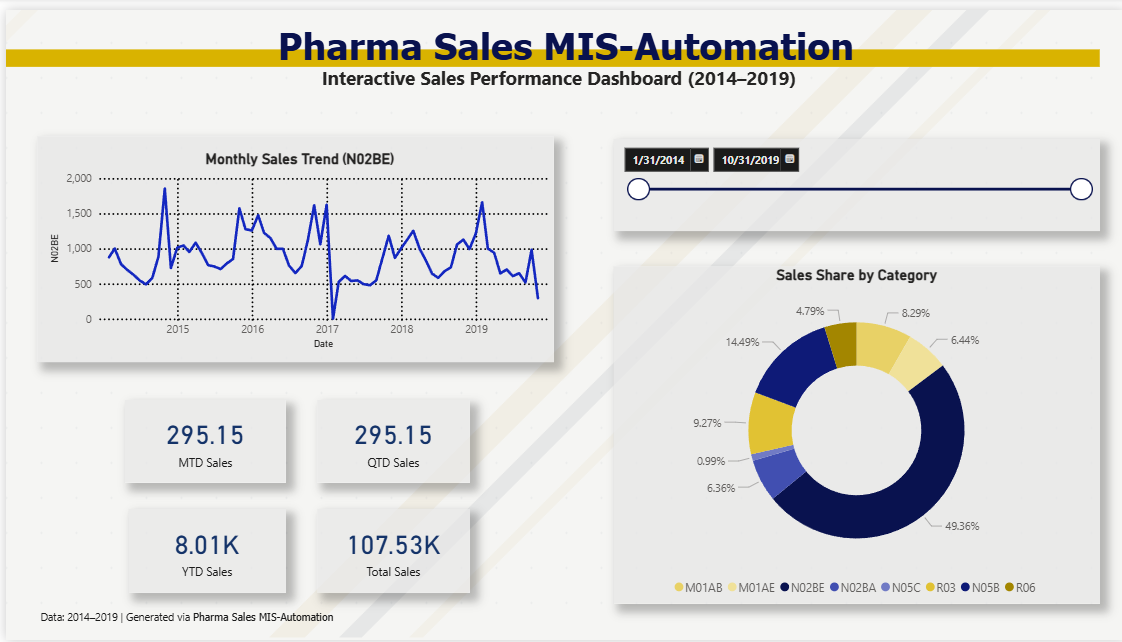

Layout of this report page (visuals, bound fields, positions):
{"tool":"powerbi","page":{"name":"Page 1","canvas":[1280,720],"ordinal":0},"visuals":[{"type":"lineChart","fields":{"Category":["DateTable.Date"],"Y":["Sum(salesmonthly.N02BE)"]},"box":[21.4,174,590.3,200.3],"z":0},{"type":"tableEx","fields":{"Values":["Sum(salesmonthly.M01AB)","Sum(salesmonthly.M01AE)","salesmonthly.datum","Sum(salesmonthly.N02BA)","Sum(salesmonthly.N02BE)","Sum(salesmonthly.N05B)","Sum(salesmonthly.N05C)","Sum(salesmonthly.R03)","Sum(salesmonthly.R06)"]},"box":[21.4,390,590,330],"z":1000},{"type":"card","fields":{"Values":["salesmonthly.N02BE MTD"]},"box":[654.3,225.7,175.7,94.3],"z":2000},{"type":"card","fields":{"Values":["salesmonthly.N02BE QTD"]},"box":[857.1,225.7,174.3,95.7],"z":3000},{"type":"card","fields":{"Values":["salesmonthly.N02BE YTD"]},"box":[1058.6,227.1,180,95.7],"z":4000},{"type":"textbox","box":[212.3,8.9,882.9,87.1],"z":5000},{"type":"slicer","fields":{"Values":["DateTable.Date"]},"box":[450,105,380,106.7],"z":6000},{"type":"donutChart","title":"Sales Share by Category","fields":{"Y":["Sum(salesmonthly.M01AB)","Sum(salesmonthly.M01AE)","Sum(salesmonthly.N02BE)","Sum(salesmonthly.N02BA)","Sum(salesmonthly.N05C)","Sum(salesmonthly.R03)","Sum(salesmonthly.N05B)","Sum(salesmonthly.R06)"]},"box":[655,373.3,583.3,343.3],"z":7000}]}

Visuals, with their boxes in screenshot pixels (x1, y1, x2, y2), scaled from the page's 1280x720 canvas onto the 1122x642 screenshot:
lineChart - DateTable.Date x Sum(salesmonthly.N02BE): <box>19,155,536,334</box>
tableEx - Sum(salesmonthly.M01AB) x Sum(salesmonthly.M01AE): <box>19,348,536,641</box>
card - salesmonthly.N02BE MTD: <box>574,201,728,285</box>
card - salesmonthly.N02BE QTD: <box>751,201,904,287</box>
card - salesmonthly.N02BE YTD: <box>928,202,1086,288</box>
textbox: <box>186,8,960,86</box>
slicer - DateTable.Date: <box>394,94,728,189</box>
"Sales Share by Category" donutChart: <box>574,333,1085,639</box>
